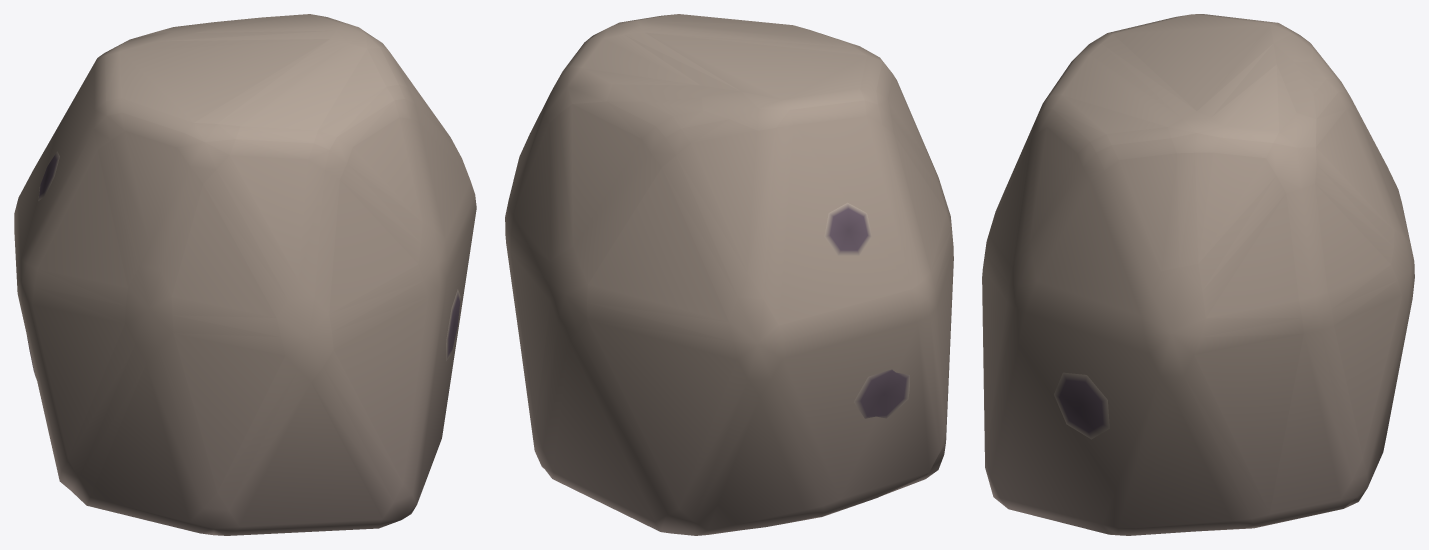
The model's file is boulder_b.glb.
3 views of the same model, side by side, from view 1: azimuth 30°, elevation 25°; view 2: azimuth 150°, elevation 25°; view 3: azimuth 270°, elevation 25° (orthographic).
Visible parts, largest first — view 1: boulder_b; view 2: boulder_b; view 3: boulder_b.
Boxes of the visible parts, left/top/right/bottom form: boulder_b: left=14, top=14, right=476, bottom=535; boulder_b: left=505, top=14, right=953, bottom=535; boulder_b: left=982, top=14, right=1414, bottom=535.
Size of the model in its own units: 3.09 by 2.88 by 2.73.
